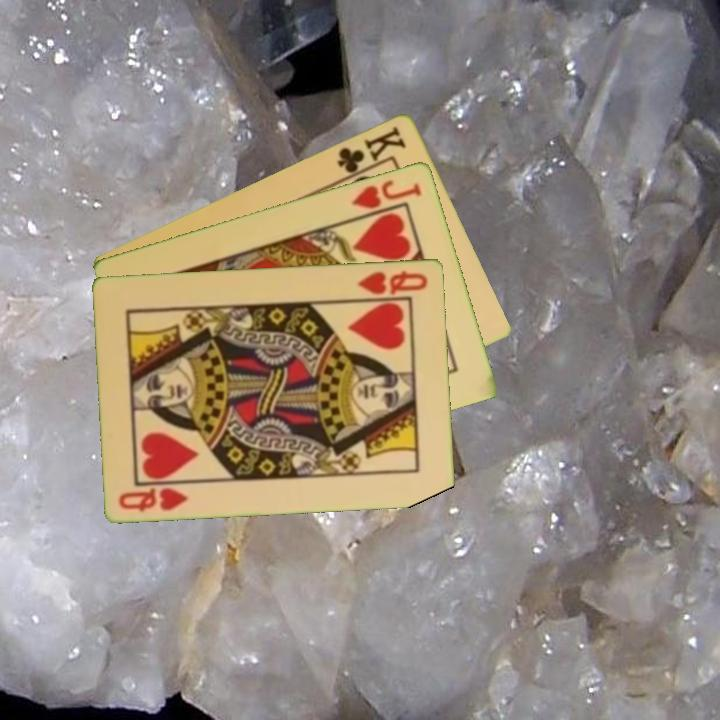Jh: (347, 176, 425, 221)
Kc: (333, 122, 409, 182)
Qh: (354, 266, 431, 298), (116, 483, 192, 514)
